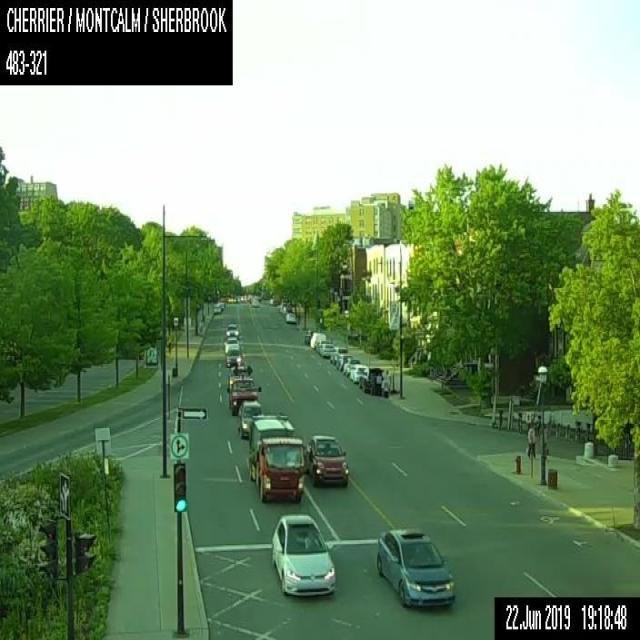pedestrian: (526, 423, 534, 456), (374, 372, 382, 394), (382, 369, 388, 396), (369, 371, 375, 394)
vehicle: (374, 527, 454, 608), (269, 512, 335, 596), (246, 414, 307, 504), (303, 434, 348, 485), (226, 365, 260, 415), (237, 400, 260, 439), (358, 365, 383, 393), (349, 363, 368, 382), (225, 344, 240, 366), (329, 345, 346, 364), (343, 358, 360, 376), (223, 336, 240, 352), (310, 332, 326, 348), (335, 353, 350, 370), (319, 342, 334, 357), (224, 322, 238, 336), (314, 338, 328, 352), (304, 329, 316, 343), (285, 312, 295, 322), (268, 298, 276, 306), (250, 298, 258, 306), (213, 303, 220, 312)
